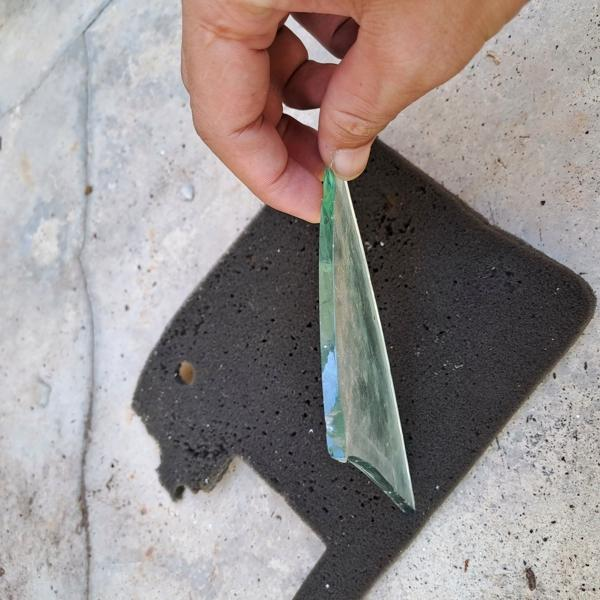Anorganik: (288, 150, 435, 528)
